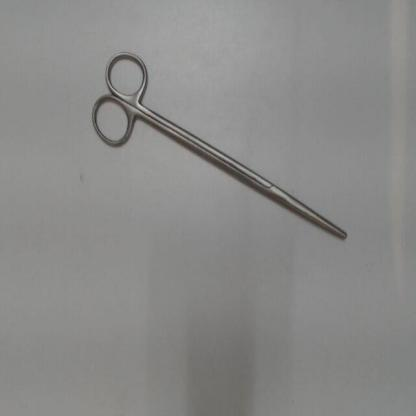9 Metzenbaum Scissors: (82, 40, 355, 247)
